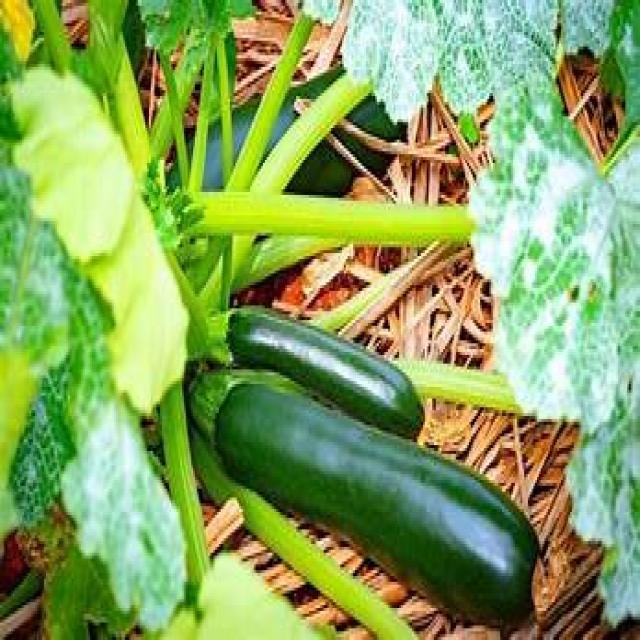Zucchini: (200, 383, 544, 614)
